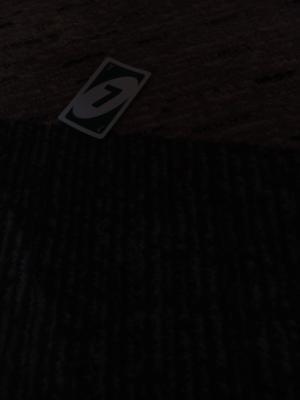green: (99, 72, 127, 107)
